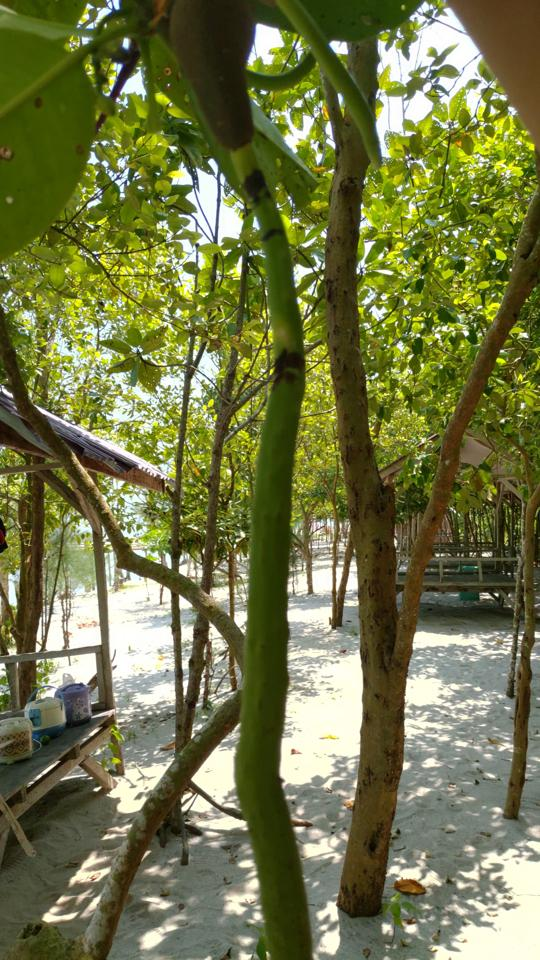setengah matang: (163, 7, 333, 956)
